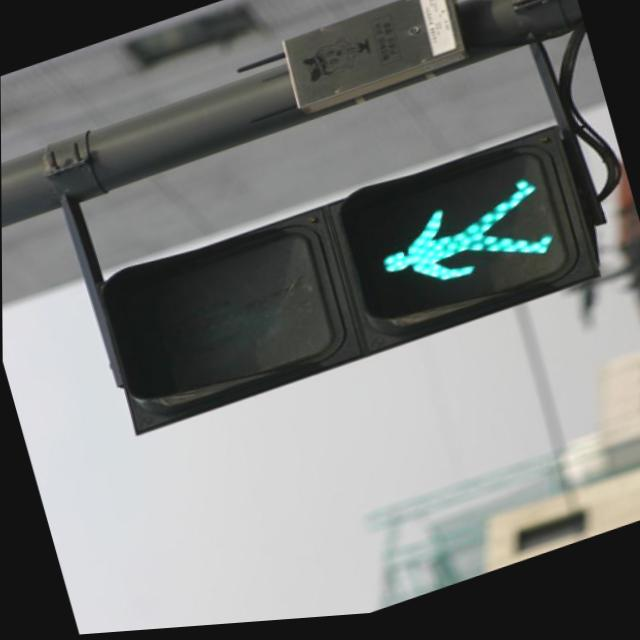green_light: (364, 155, 570, 333)
